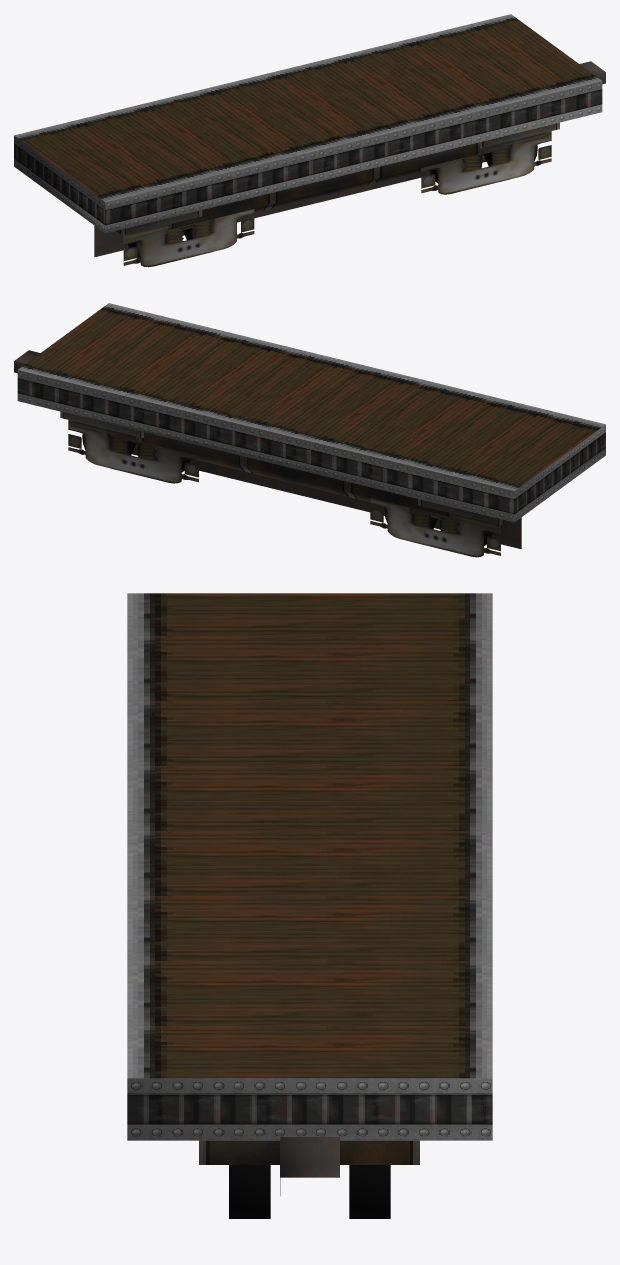
File: flat_car.glb
3 views of the same model, one above another, from view 1: azimuth 30°, elevation 25°; view 2: azimuth 150°, elevation 25°; view 3: azimuth 270°, elevation 25° (orthographic). The views are drawn at different scales.
Parts seen in each view (by area): view 1: FCFloor, FCLtTank, FCWheelLtCover1, FCWheelPlate12, FCBottemMiddfle, FCBackBox, FCFrontBox; view 2: FCFloor, FCWheelRtCover1, FCRtTank, FCWheelRtCover2, FCBottemMiddfle, FCBackBox, FCFrontBox; view 3: FCFloor, FCFrontBox, FCConnector1, FCWhl1, FCWhl5.
Part boxes in pixels (bbox=[...]): FCFloor: bbox=[14, 14, 602, 233]; FCLtTank: bbox=[165, 142, 484, 234]; FCWheelLtCover1: bbox=[421, 131, 551, 194]; FCWheelPlate12: bbox=[123, 209, 254, 267]; FCBottemMiddfle: bbox=[94, 154, 486, 257]; FCBackBox: bbox=[116, 210, 202, 235]; FCFrontBox: bbox=[480, 122, 559, 148]; FCFloor: bbox=[17, 303, 605, 522]; FCWheelRtCover1: bbox=[68, 420, 198, 483]; FCRtTank: bbox=[135, 432, 458, 522]; FCWheelRtCover2: bbox=[370, 498, 500, 557]; FCBottemMiddfle: bbox=[132, 443, 521, 549]; FCBackBox: bbox=[418, 499, 506, 525]; FCFrontBox: bbox=[60, 411, 143, 437]; FCFloor: bbox=[127, 593, 492, 1140]; FCFrontBox: bbox=[199, 1140, 419, 1164]; FCConnector1: bbox=[280, 1137, 339, 1195]; FCWhl1: bbox=[349, 1165, 390, 1218]; FCWhl5: bbox=[229, 1165, 270, 1218].
Size of the model in its own units: 88.49 by 15.78 by 25.99.
13 materials, 13 textured.
